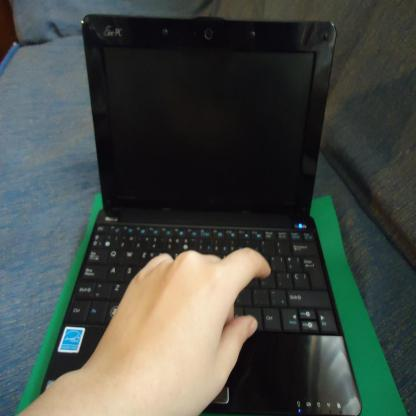board: (39, 9, 362, 415)
